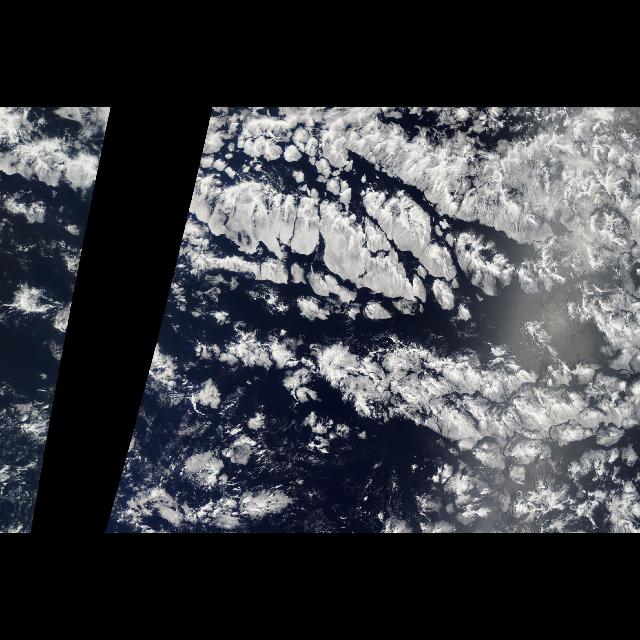Flower: (103, 272, 639, 532), (13, 272, 82, 532)
